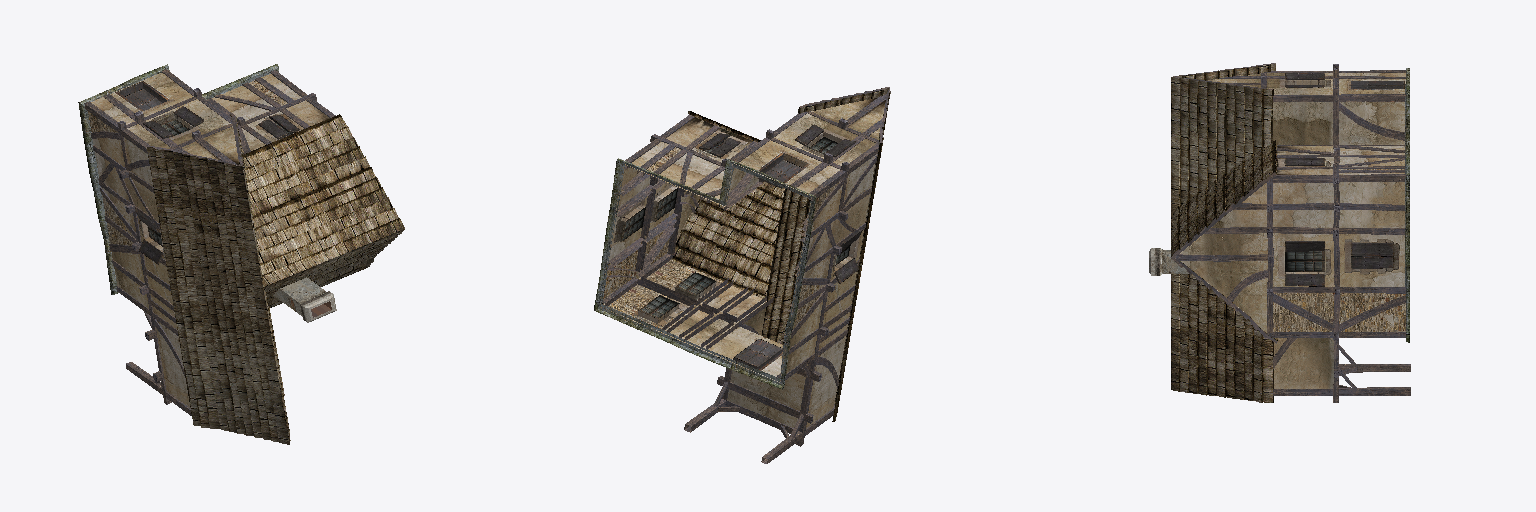
The picture shows the model from 3 angles: view 1: azimuth 30°, elevation 25°; view 2: azimuth 150°, elevation 25°; view 3: azimuth 270°, elevation 25°; orthographic projection.
Size of the model in its own units: 0.7653 by 1 by 0.7702.
1 materials, 1 textured.